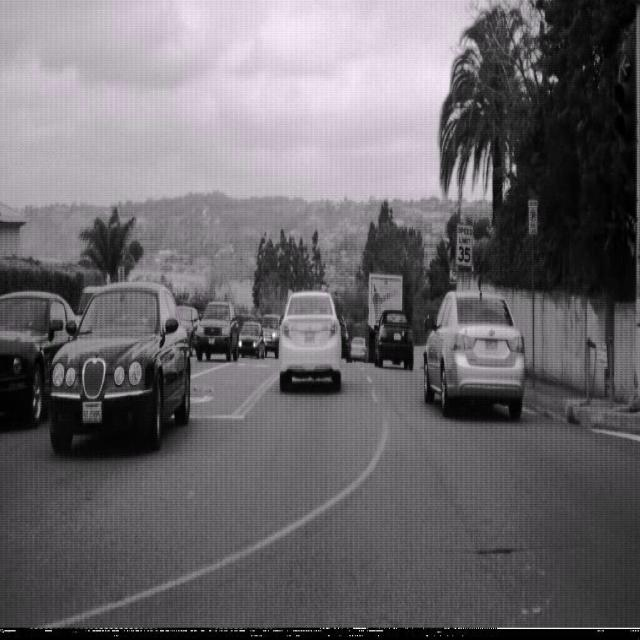speedLimit35: (454, 220, 474, 268)
